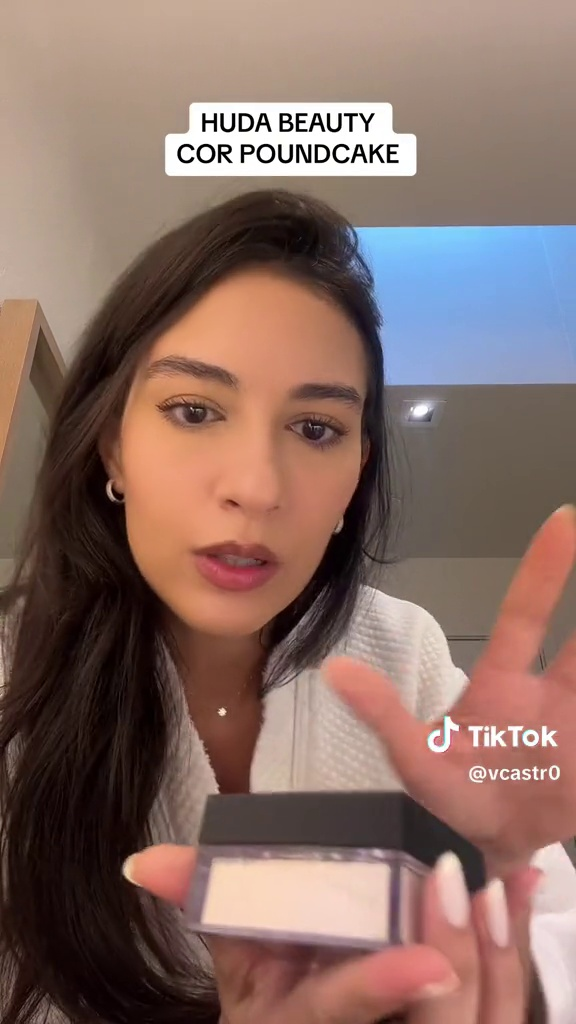train' :'yolo_data/train/images',: (161, 771, 483, 958)
